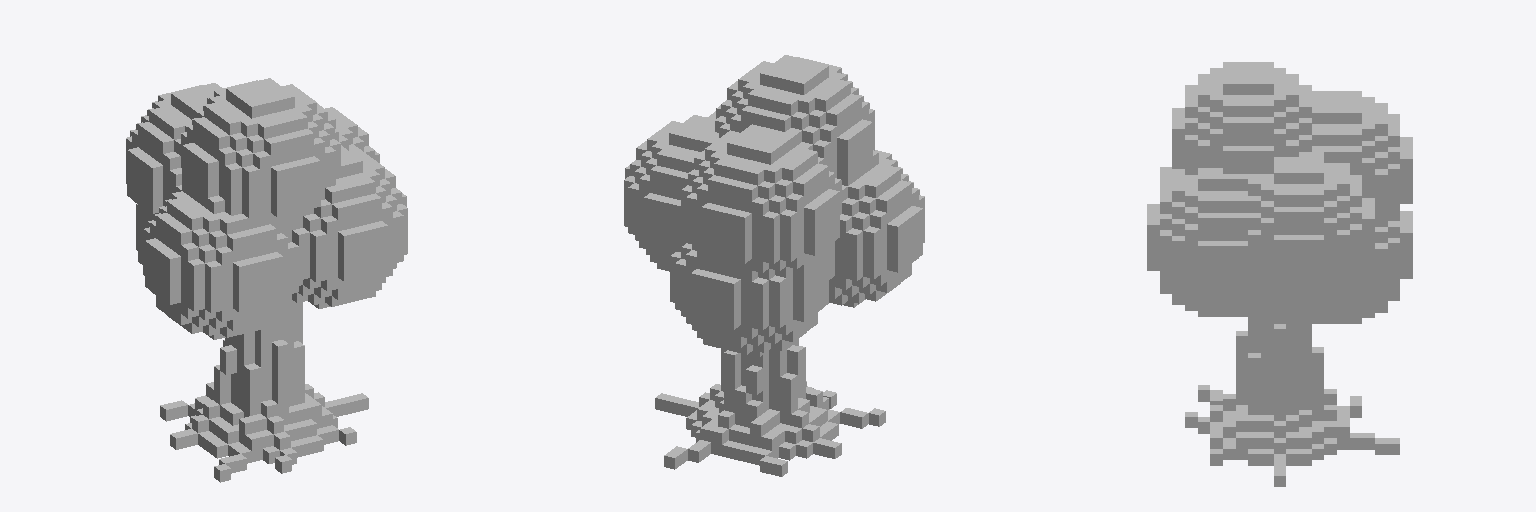
Rendered from tree.obj.
3 renders of one model, left to right at view 1: azimuth 30°, elevation 25°; view 2: azimuth 150°, elevation 25°; view 3: azimuth 270°, elevation 25°, orthographic.
Visible parts, largest first — view 1: object 1; view 2: object 1; view 3: object 1.
Part boxes in pixels (bbox=[...]): object 1: bbox=[126, 78, 407, 482]; object 1: bbox=[624, 55, 924, 476]; object 1: bbox=[1147, 62, 1412, 486].
Size of the model in its own units: 2.2 by 3.1 by 2.1.